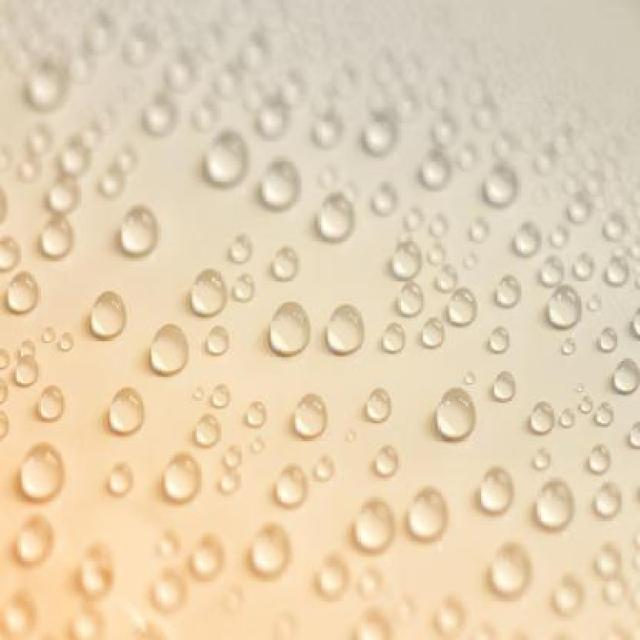raindrop: (6, 428, 73, 522), (522, 452, 588, 544), (248, 150, 320, 231), (72, 266, 134, 360), (308, 177, 373, 256), (464, 452, 532, 525), (186, 122, 248, 198), (23, 201, 85, 277), (243, 506, 299, 584), (262, 289, 318, 366), (428, 381, 487, 454), (345, 484, 400, 560), (402, 478, 454, 552), (319, 296, 371, 368), (537, 274, 596, 336), (114, 188, 165, 258), (0, 219, 36, 318), (181, 263, 236, 323), (142, 319, 193, 382), (36, 40, 72, 129), (488, 540, 532, 610), (266, 458, 319, 512), (24, 373, 72, 431), (127, 94, 179, 146), (162, 452, 215, 503), (103, 378, 147, 436), (354, 106, 402, 158), (292, 390, 336, 446), (262, 236, 305, 292), (382, 238, 426, 286), (44, 174, 82, 222), (487, 274, 522, 324), (49, 136, 92, 176), (362, 383, 397, 430), (438, 290, 471, 334)
